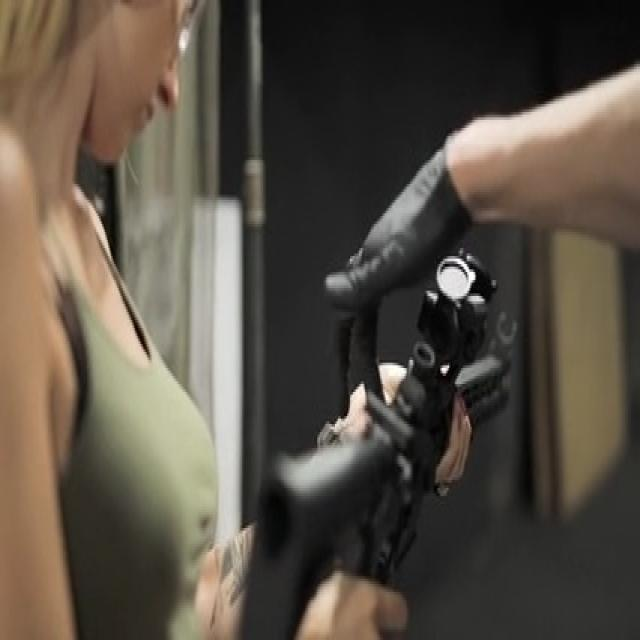Gun_Holder: (197, 215, 580, 640)
Person: (0, 0, 398, 640)
